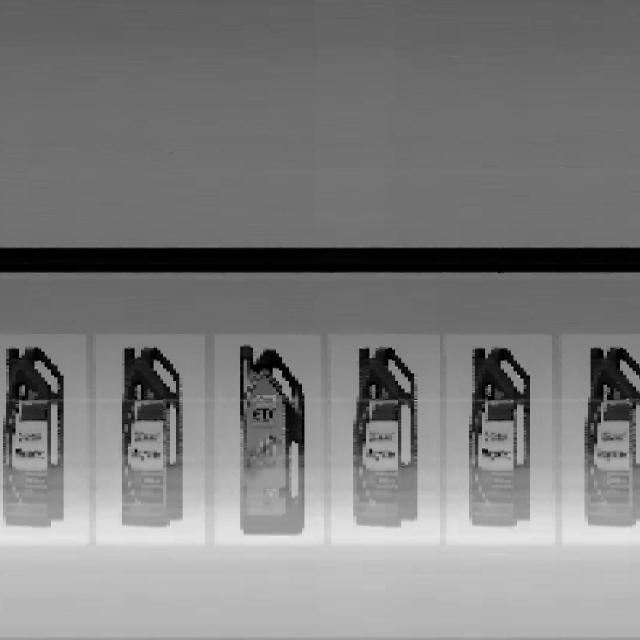motor_oil: (238, 342, 307, 540), (465, 340, 534, 534), (353, 346, 421, 534), (120, 343, 187, 527), (2, 344, 64, 529), (582, 339, 640, 529)
